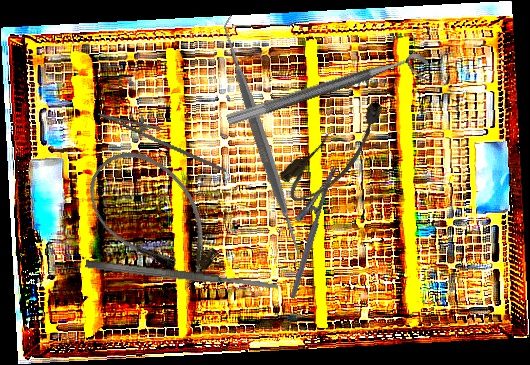Cannula: (71, 132, 238, 302), (273, 93, 401, 212)
Fixation Ring: (225, 49, 434, 143)
Needle Holder: (92, 102, 235, 173), (271, 160, 339, 299)
Spatula Surgical: (135, 14, 389, 266), (85, 258, 279, 293)
